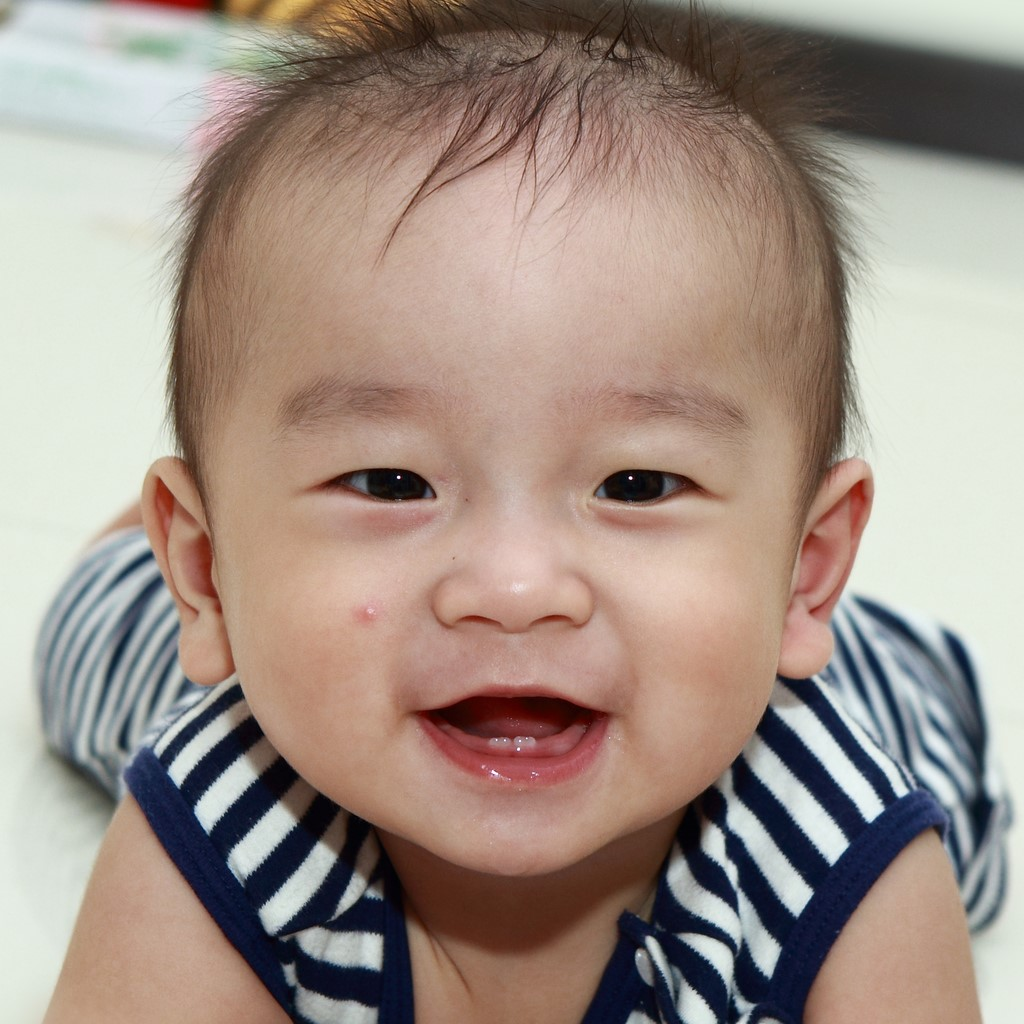sin_mascara: (195, 85, 815, 869)
